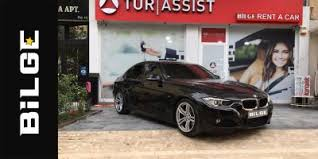car: (112, 62, 271, 137)
